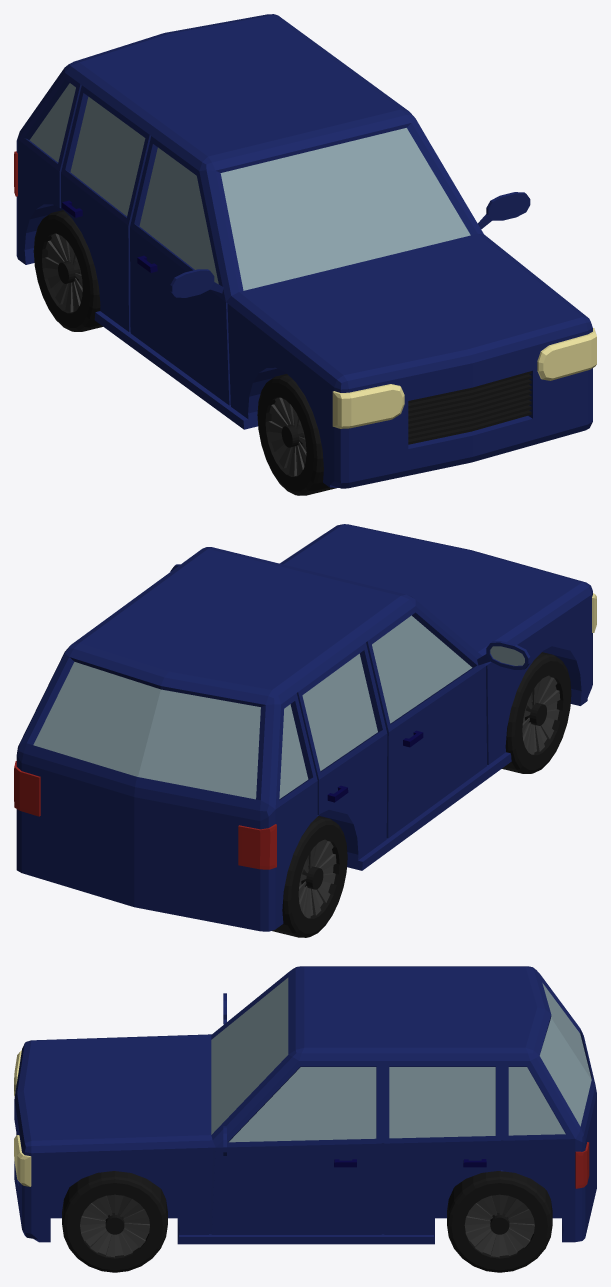
File: CarBlue.fbx
3 renders of one model, top to bottom at view 1: azimuth 30°, elevation 25°; view 2: azimuth 150°, elevation 25°; view 3: azimuth 270°, elevation 25°, orthographic. The views are drawn at different scales.
Parts seen in each view (by area): view 1: Cube; view 2: Cube; view 3: Cube.
Boxes of the visible parts, bbox=[...] form: Cube: bbox=[14, 14, 596, 495]; Cube: bbox=[14, 524, 596, 937]; Cube: bbox=[14, 966, 596, 1272].
Size of the model in its own units: 222 by 147 by 364.
